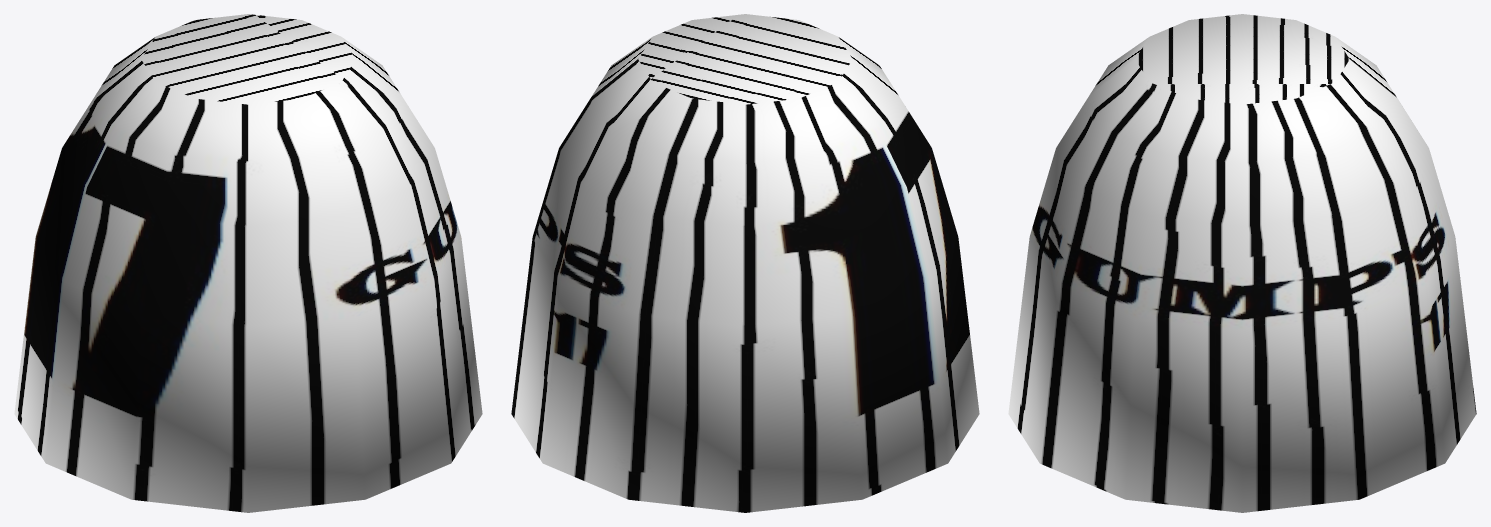
File: upper.gltf
The picture shows the model from 3 angles, left to right: view 1: azimuth 30°, elevation 25°; view 2: azimuth 150°, elevation 25°; view 3: azimuth 270°, elevation 25°; orthographic projection.
Parts seen in each view (by area): view 1: body; view 2: body; view 3: body.
Part boxes in pixels (x1=…): body: x1=14, y1=14, x2=482, y2=512; body: x1=511, y1=14, x2=979, y2=512; body: x1=1008, y1=14, x2=1476, y2=512.
Size of the model in its own units: 3.11 by 2.6 by 3.11.
2 materials, 1 textured.
